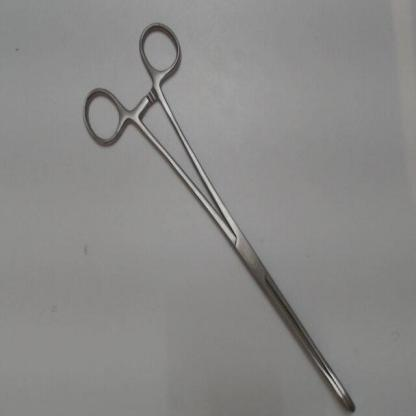Sponge Forceps: (77, 13, 360, 416)
